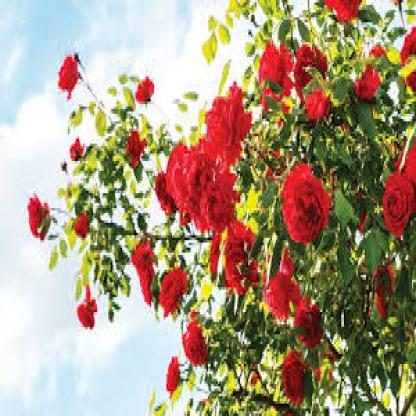Rose-Mawar: (155, 75, 260, 296), (256, 26, 335, 132), (276, 162, 333, 263), (262, 264, 326, 350), (378, 130, 416, 246), (360, 33, 416, 93), (263, 350, 312, 407), (172, 313, 212, 372), (26, 182, 55, 254), (136, 227, 161, 306), (73, 293, 106, 335), (132, 63, 161, 110), (54, 46, 81, 93), (160, 360, 187, 397)
